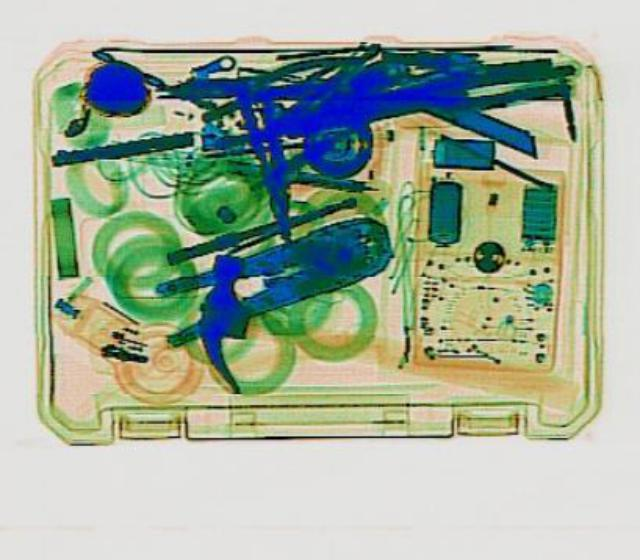Pliers: (137, 203, 406, 343), (192, 56, 376, 151), (233, 78, 303, 241)
